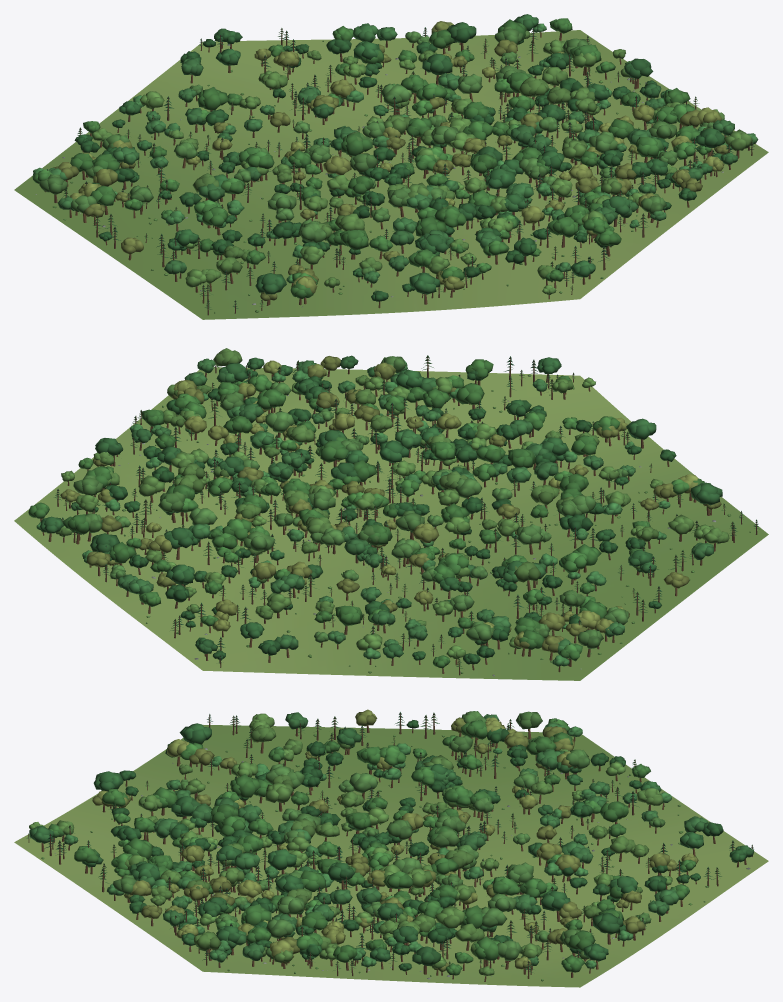
The picture shows the model from 3 angles, top to bottom: view 1: azimuth 30°, elevation 25°; view 2: azimuth 150°, elevation 25°; view 3: azimuth 270°, elevation 25°; orthographic projection.
Parts seen in each view (by area): view 1: broadleaf_canopy, terrain, trunks, conifer_canopy; view 2: broadleaf_canopy, terrain, trunks, conifer_canopy; view 3: broadleaf_canopy, terrain, trunks, conifer_canopy.
Boxes of the visible parts, <box> form: broadleaf_canopy: <box>32,14,758,301</box>; terrain: <box>14,30,768,319</box>; trunks: <box>44,27,752,315</box>; conifer_canopy: <box>47,26,754,309</box>; broadleaf_canopy: <box>28,348,729,668</box>; terrain: <box>14,367,768,680</box>; trunks: <box>40,356,757,675</box>; conifer_canopy: <box>54,355,759,668</box>; broadleaf_canopy: <box>29,709,754,975</box>; terrain: <box>14,725,768,987</box>; trunks: <box>28,713,752,981</box>; conifer_canopy: <box>26,712,753,972</box>.
Size of the model in its own units: 4330 by 457 by 5000.
